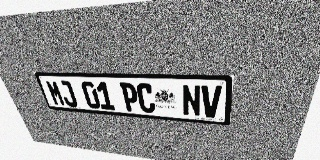0: (80, 81, 101, 109)
1: (94, 82, 115, 110)
C: (136, 83, 156, 113)
J: (57, 80, 79, 107)
M: (45, 80, 66, 106)
N: (182, 84, 201, 117)
P: (119, 82, 140, 112)
V: (201, 85, 222, 118)
